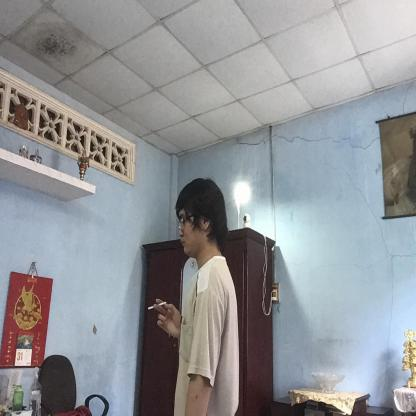cigarette: (147, 300, 168, 312)
person: (152, 175, 240, 416)
